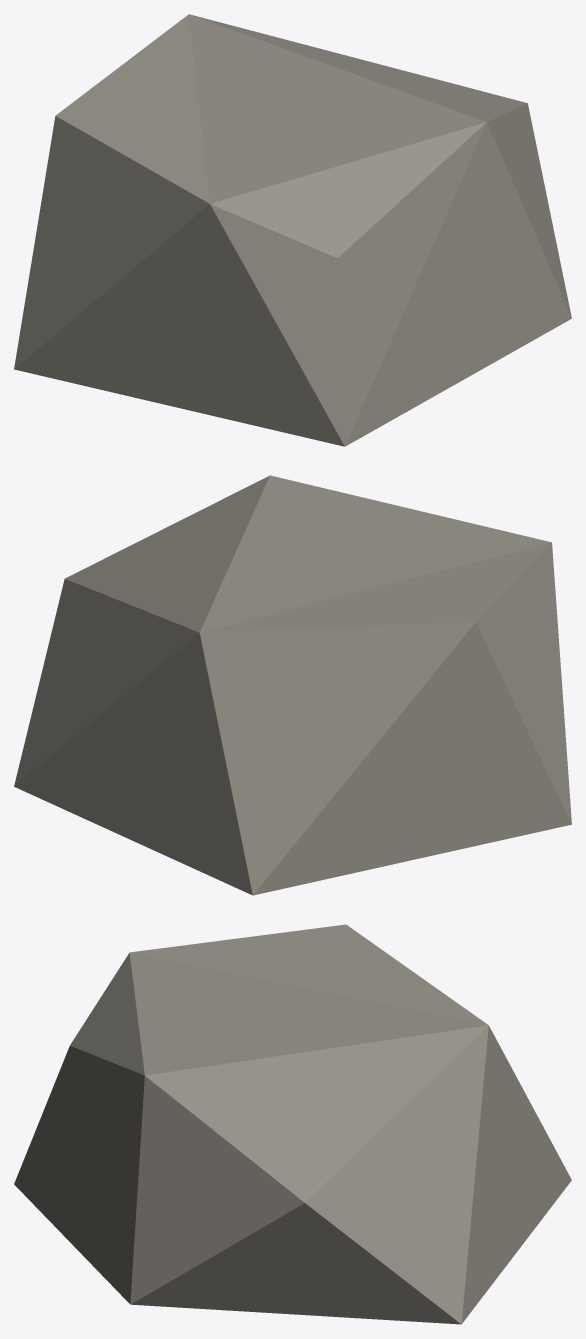
Rendered from Rock_2.glb.
The picture shows the model from 3 angles, top to bottom: view 1: azimuth 30°, elevation 25°; view 2: azimuth 150°, elevation 25°; view 3: azimuth 270°, elevation 25°; orthographic projection. The views are drawn at different scales.
Parts seen in each view (by area): view 1: Rock_12_LOD0; view 2: Rock_12_LOD0; view 3: Rock_12_LOD0.
Boxes of the visible parts, box(x1,y1,x2,y2) form: Rock_12_LOD0: box(14, 14, 571, 446); Rock_12_LOD0: box(14, 475, 571, 895); Rock_12_LOD0: box(14, 924, 571, 1324).
Size of what is drawn, in the model's own units: 0.5931 by 0.2885 by 0.594.
Materials: 1 (1 with a texture image).
